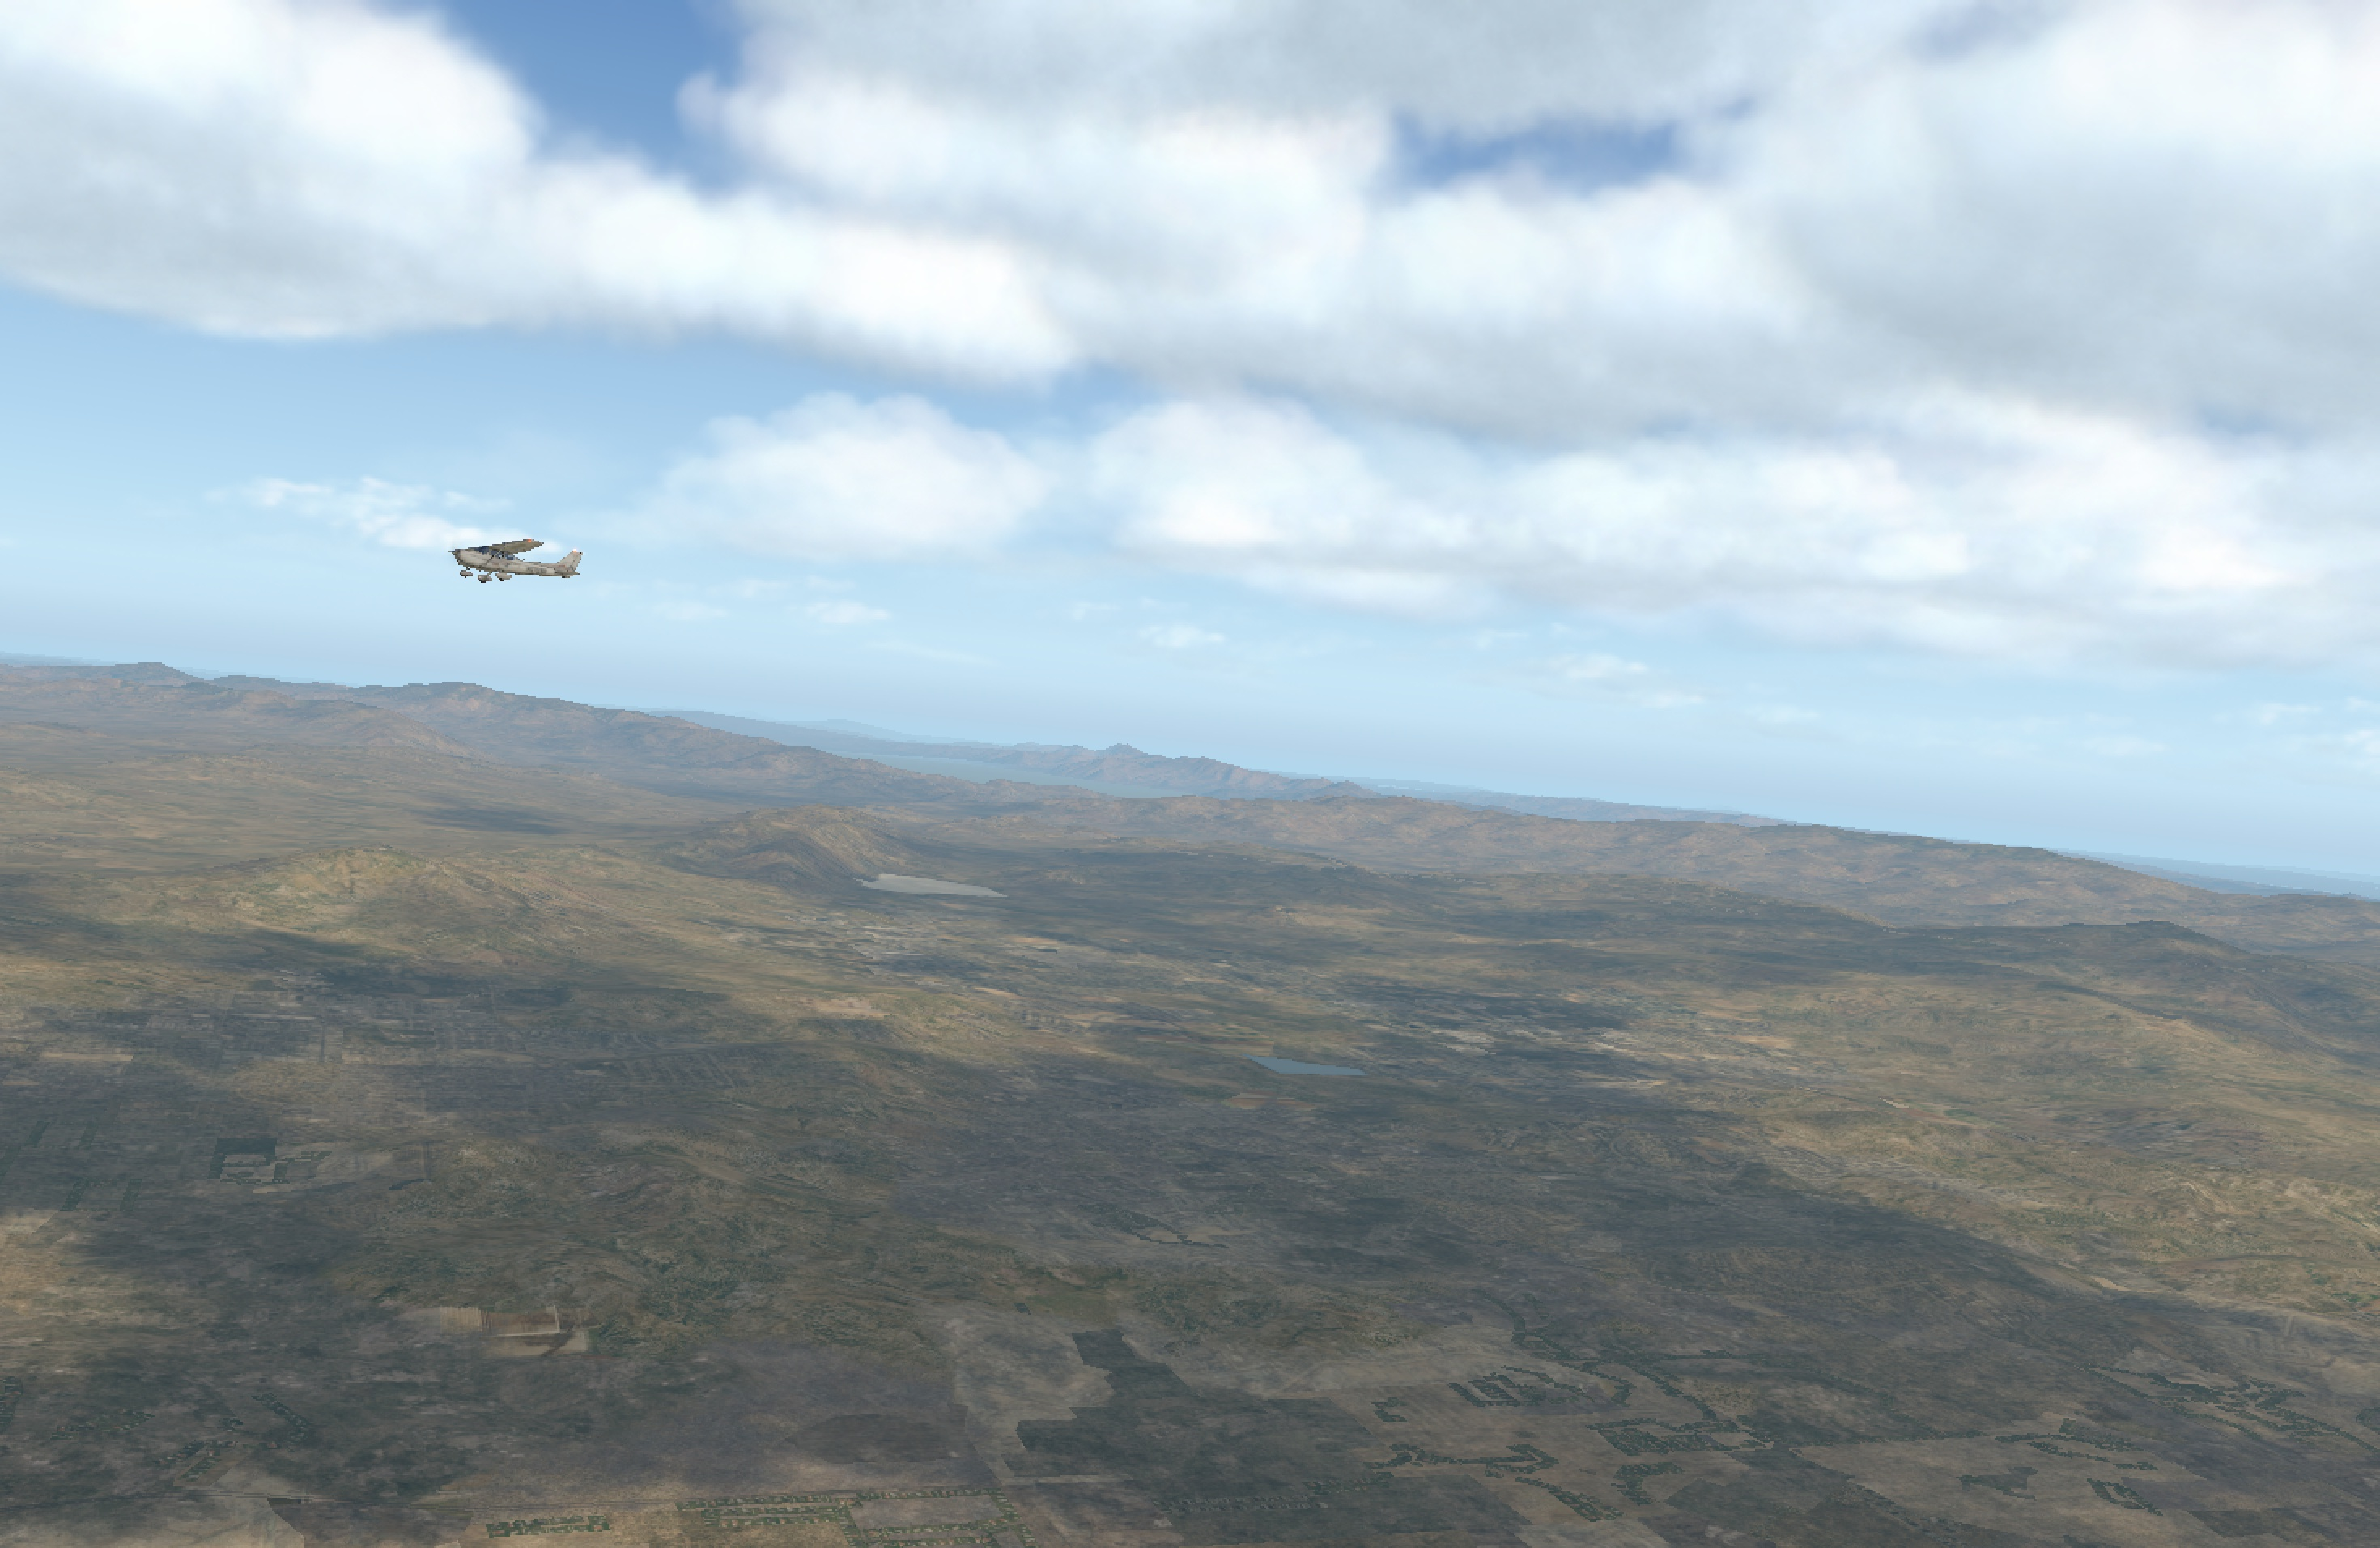aircraft: (427, 535, 553, 581)
